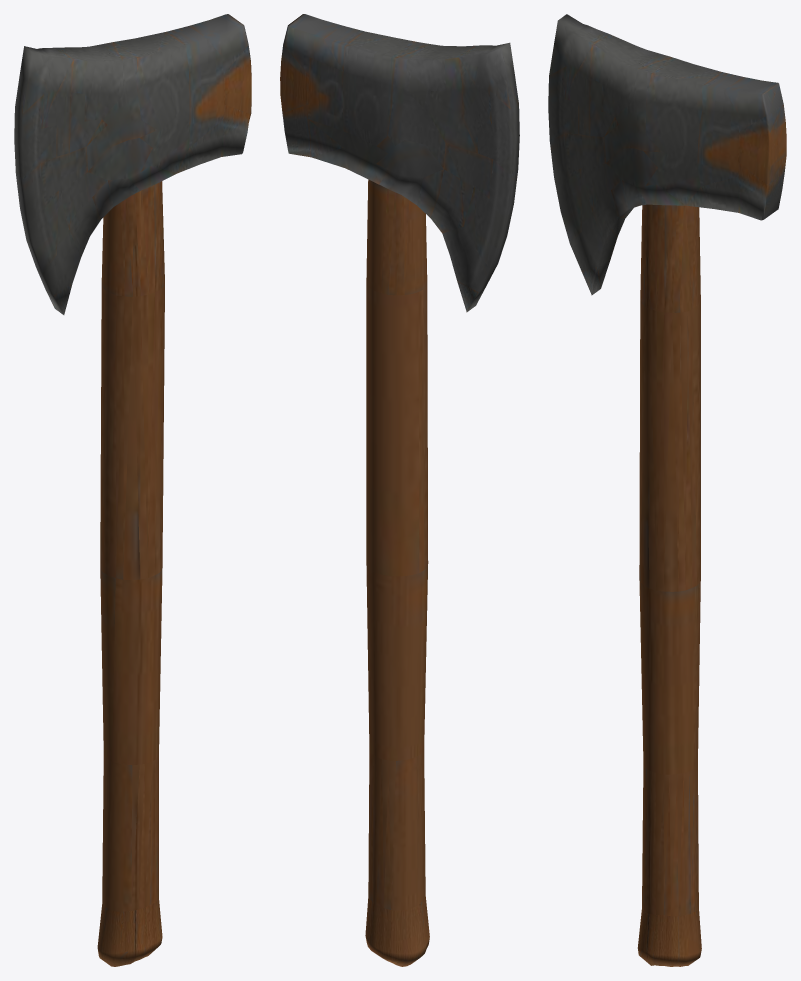
The model's file is weap_germanic_hand_axe_0.glb.
3 renders of one model, left to right at view 1: azimuth 30°, elevation 25°; view 2: azimuth 150°, elevation 25°; view 3: azimuth 330°, elevation 25°, orthographic.
Parts seen in each view (by area): view 1: MeshyEquipment_weap_germanic_hand_axe; view 2: MeshyEquipment_weap_germanic_hand_axe; view 3: MeshyEquipment_weap_germanic_hand_axe.
Boxes of the visible parts, x1=… form: MeshyEquipment_weap_germanic_hand_axe: x1=14, y1=14, x2=251, y2=966; MeshyEquipment_weap_germanic_hand_axe: x1=280, y1=14, x2=519, y2=966; MeshyEquipment_weap_germanic_hand_axe: x1=548, y1=14, x2=786, y2=966.
Bounding box in the file's own units: 0.1565 × 0.62 × 0.0402.
Materials: 1 (1 with a texture image).
